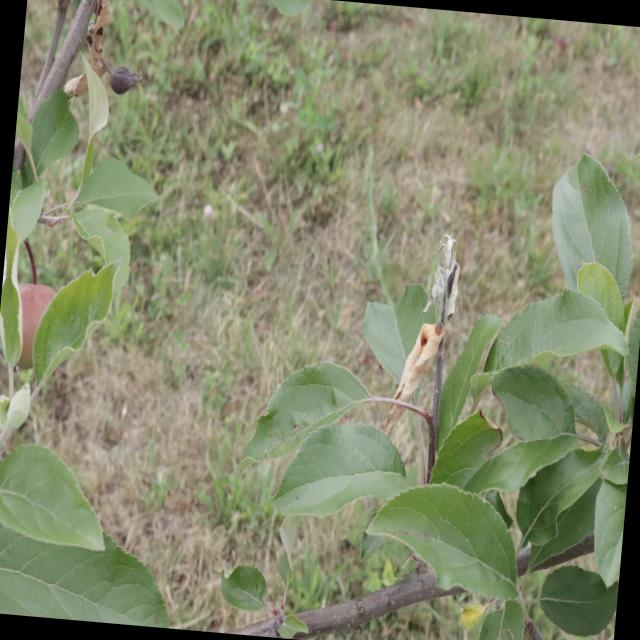-FireBlight-: (375, 233, 457, 445)
